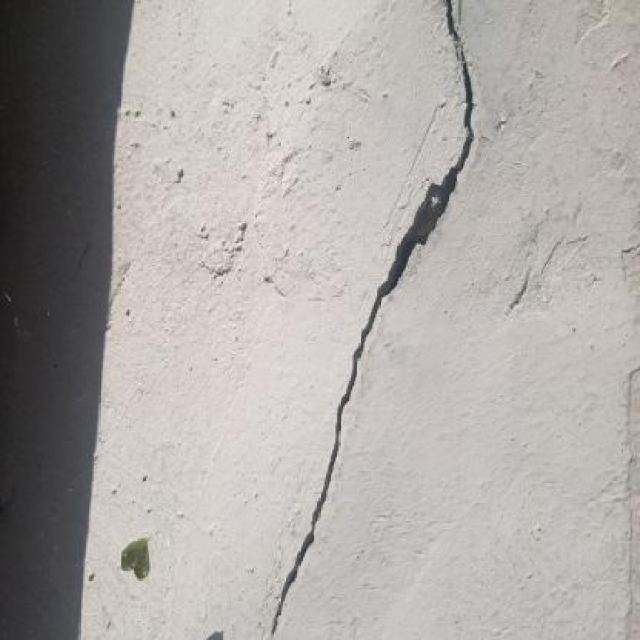GRIETA: (271, 0, 473, 639)
